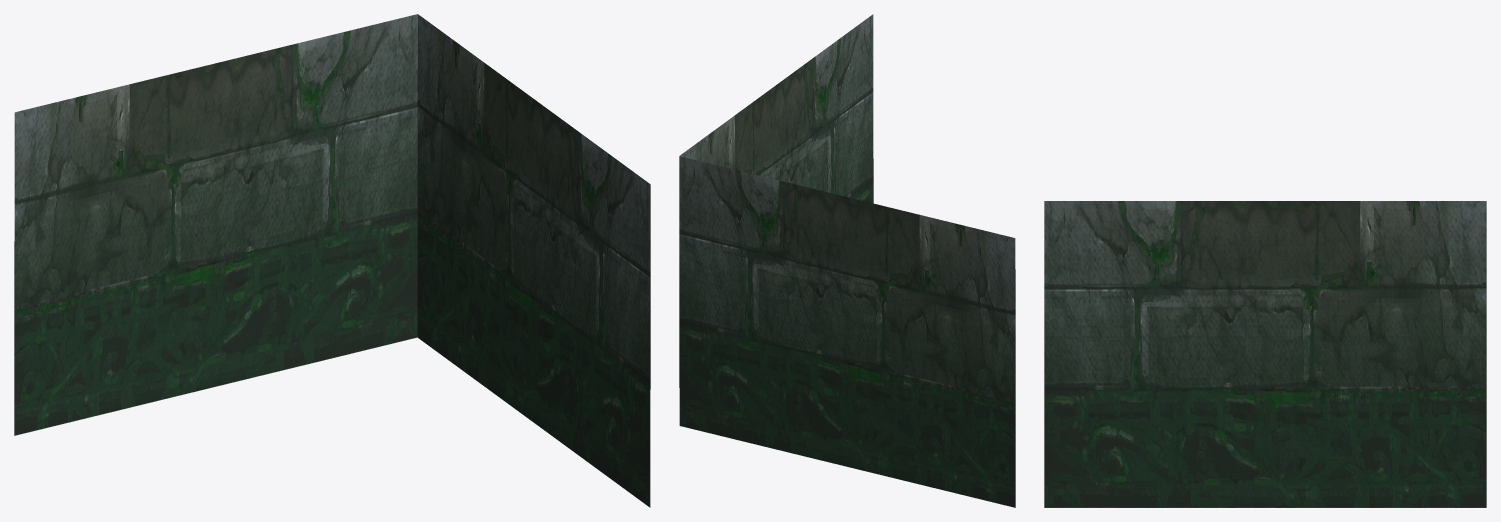
Rendered from stemple_half_concave_06.fbx.
3 views of the same model, side by side, from view 1: azimuth 30°, elevation 25°; view 2: azimuth 150°, elevation 25°; view 3: azimuth 270°, elevation 25° (orthographic). The views are drawn at different scales.
Parts seen in each view (by area): view 1: obj0.397; view 2: obj0.397; view 3: obj0.397.
Part boxes in pixels (box(x1,y1,x2,y2)): obj0.397: box(14, 14, 650, 507); obj0.397: box(679, 14, 1015, 507); obj0.397: box(1044, 201, 1486, 507).
Size of the model in its own units: 3.59 by 2.75 by 3.59.
